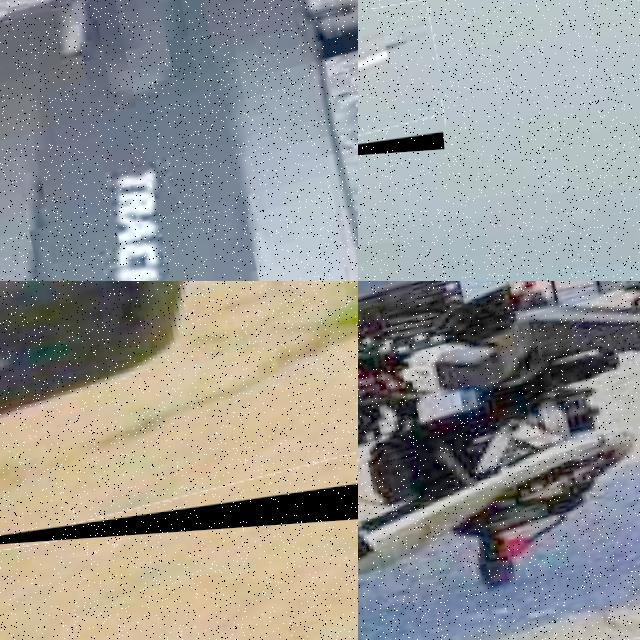0: (0, 0, 358, 281), (358, 4, 444, 165)
drone: (358, 281, 640, 640), (0, 281, 358, 553)
